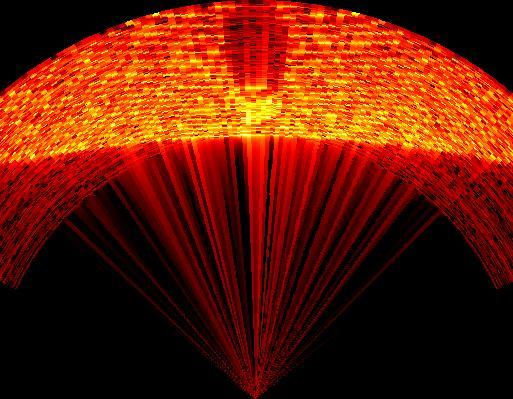box_crate: (223, 9, 294, 127)
